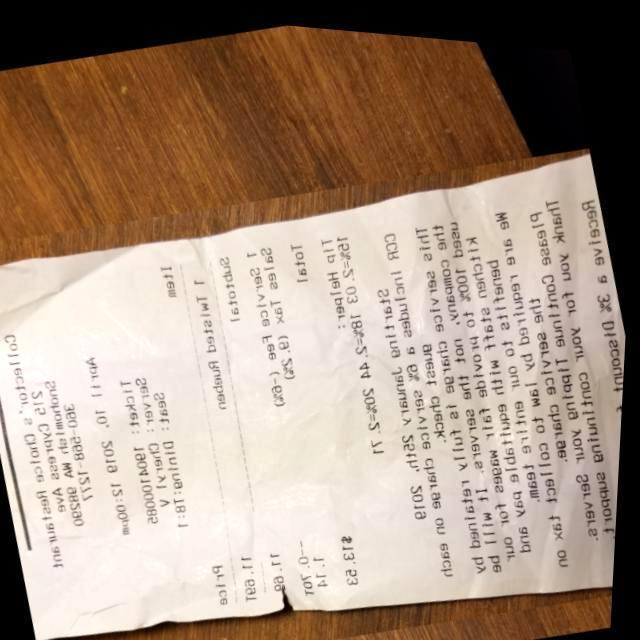Paper: (0, 94, 636, 640)
